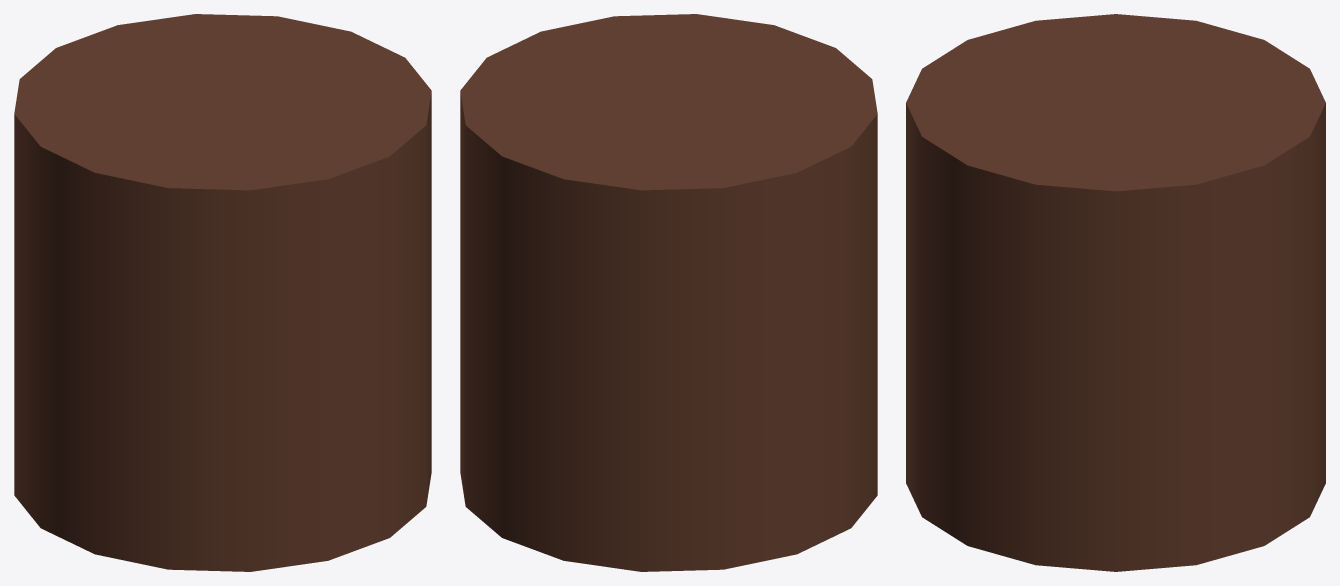
The picture shows the model from 3 angles, left to right: view 1: azimuth 30°, elevation 25°; view 2: azimuth 150°, elevation 25°; view 3: azimuth 270°, elevation 25°; orthographic projection.
Parts seen in each view (by area): view 1: cylinder-rust; view 2: cylinder-rust; view 3: cylinder-rust.
Part boxes in pixels (<box>): cylinder-rust: <box>14,14,431,571</box>; cylinder-rust: <box>460,14,877,571</box>; cylinder-rust: <box>906,14,1325,571</box>.
Size of the model in its own units: 1 by 1 by 1.
